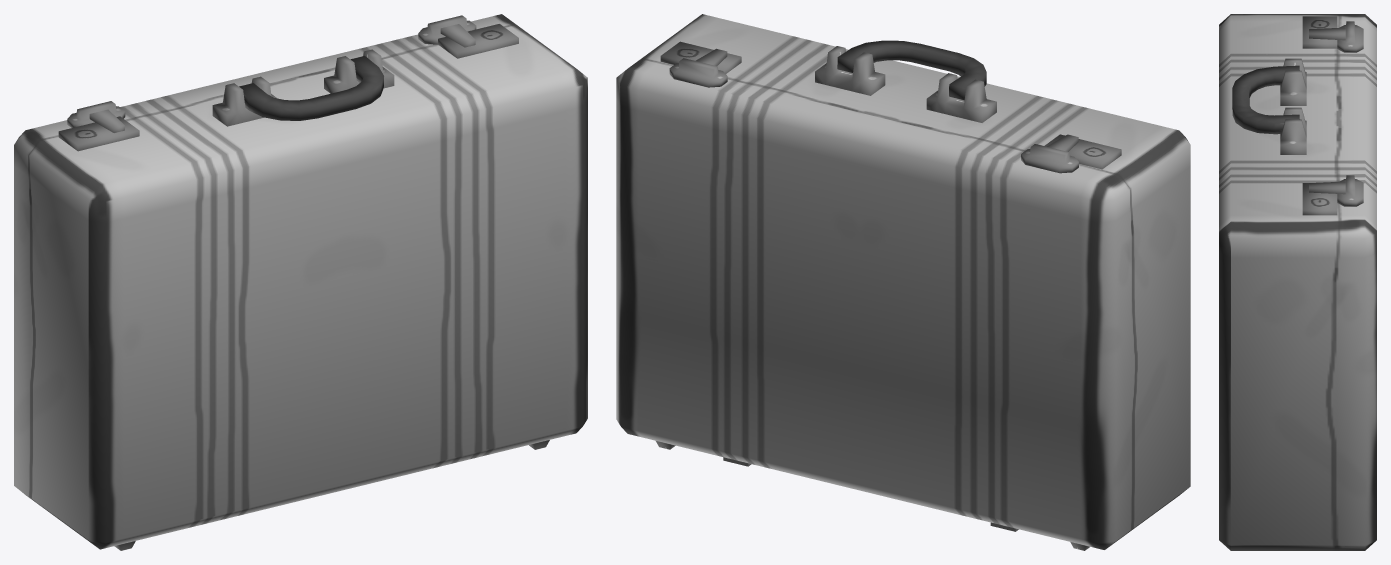
The model's file is obj_Suitcase2.fbx.
3 views of the same model, side by side, from view 1: azimuth 30°, elevation 25°; view 2: azimuth 150°, elevation 25°; view 3: azimuth 270°, elevation 25° (orthographic). The views are drawn at different scales.
Parts seen in each view (by area): view 1: obj_Suitcase2; view 2: obj_Suitcase2; view 3: obj_Suitcase2.
Boxes of the visible parts, x1=… form: obj_Suitcase2: x1=14, y1=14, x2=587, y2=550; obj_Suitcase2: x1=616, y1=14, x2=1190, y2=550; obj_Suitcase2: x1=1219, y1=14, x2=1376, y2=550.
Bounding box in the file's own units: 0.6572 × 0.5116 × 0.2.
Materials: 1 (1 with a texture image).
